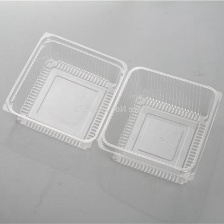plastic_box: (0, 26, 223, 190)
